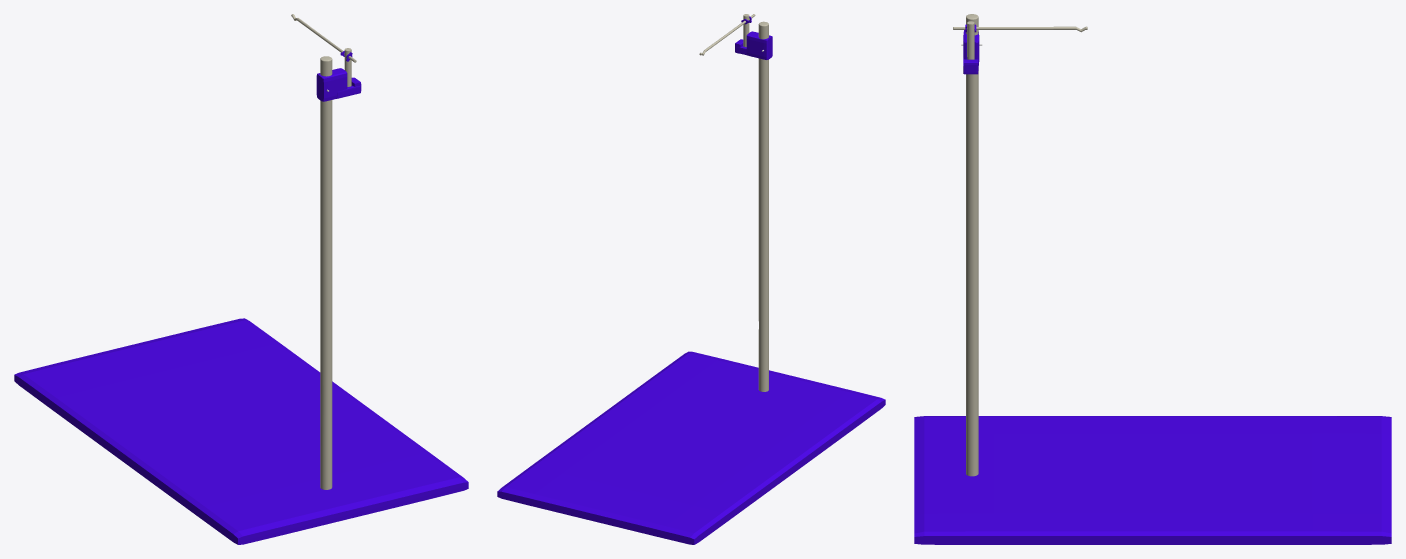
File: RetortStand.fbx
3 renders of one model, left to right at view 1: azimuth 30°, elevation 25°; view 2: azimuth 150°, elevation 25°; view 3: azimuth 270°, elevation 25°, orthographic. The views are drawn at different scales.
Parts seen in each view (by area): view 1: Thread Holder; view 2: Thread Holder; view 3: Thread Holder.
Boxes of the visible parts, box(x1,y1,x2,y2) form: Thread Holder: box(14, 14, 468, 544); Thread Holder: box(497, 14, 885, 544); Thread Holder: box(914, 14, 1391, 544).
Size of the model in its own units: 119 by 220 by 200.
